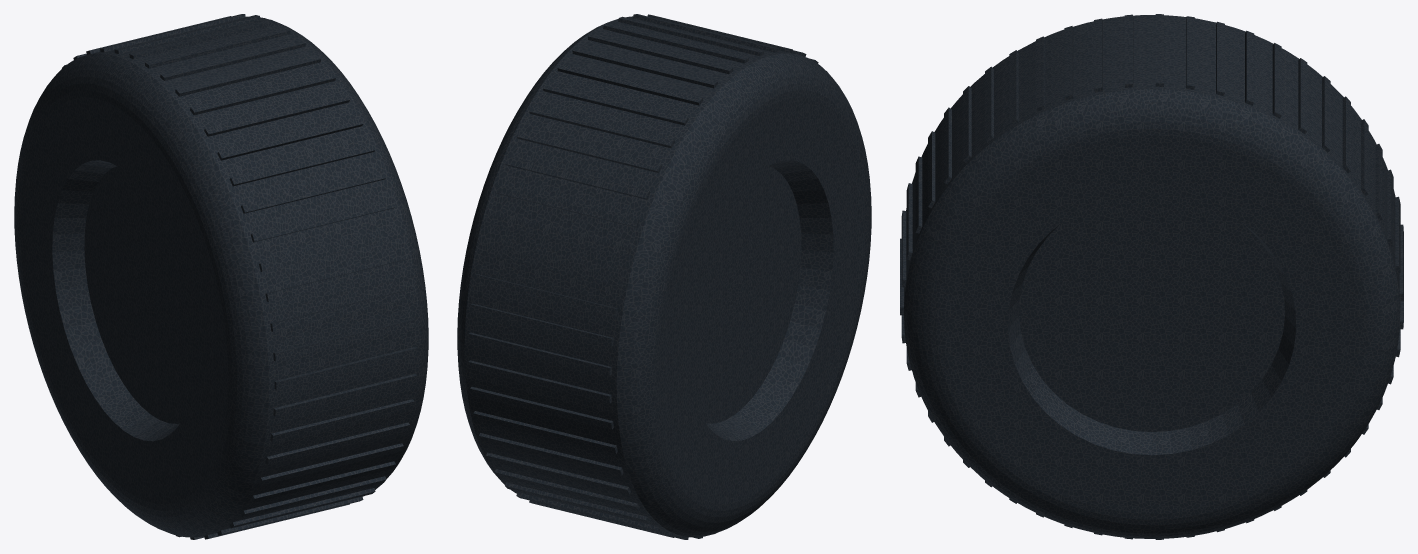
File: RR_Wheel.obj
The picture shows the model from 3 angles, left to right: view 1: azimuth 30°, elevation 25°; view 2: azimuth 150°, elevation 25°; view 3: azimuth 270°, elevation 25°; orthographic projection.
Parts seen in each view (by area): view 1: RR_Wheel_visual; view 2: RR_Wheel_visual; view 3: RR_Wheel_visual.
Part boxes in pixels (x1=…): RR_Wheel_visual: x1=14, y1=14, x2=428, y2=539; RR_Wheel_visual: x1=457, y1=14, x2=871, y2=539; RR_Wheel_visual: x1=900, y1=14, x2=1403, y2=539.
Bounding box in the file's own units: 0.055 × 0.1231 × 0.1231.
Materials: 1 (1 with a texture image).
